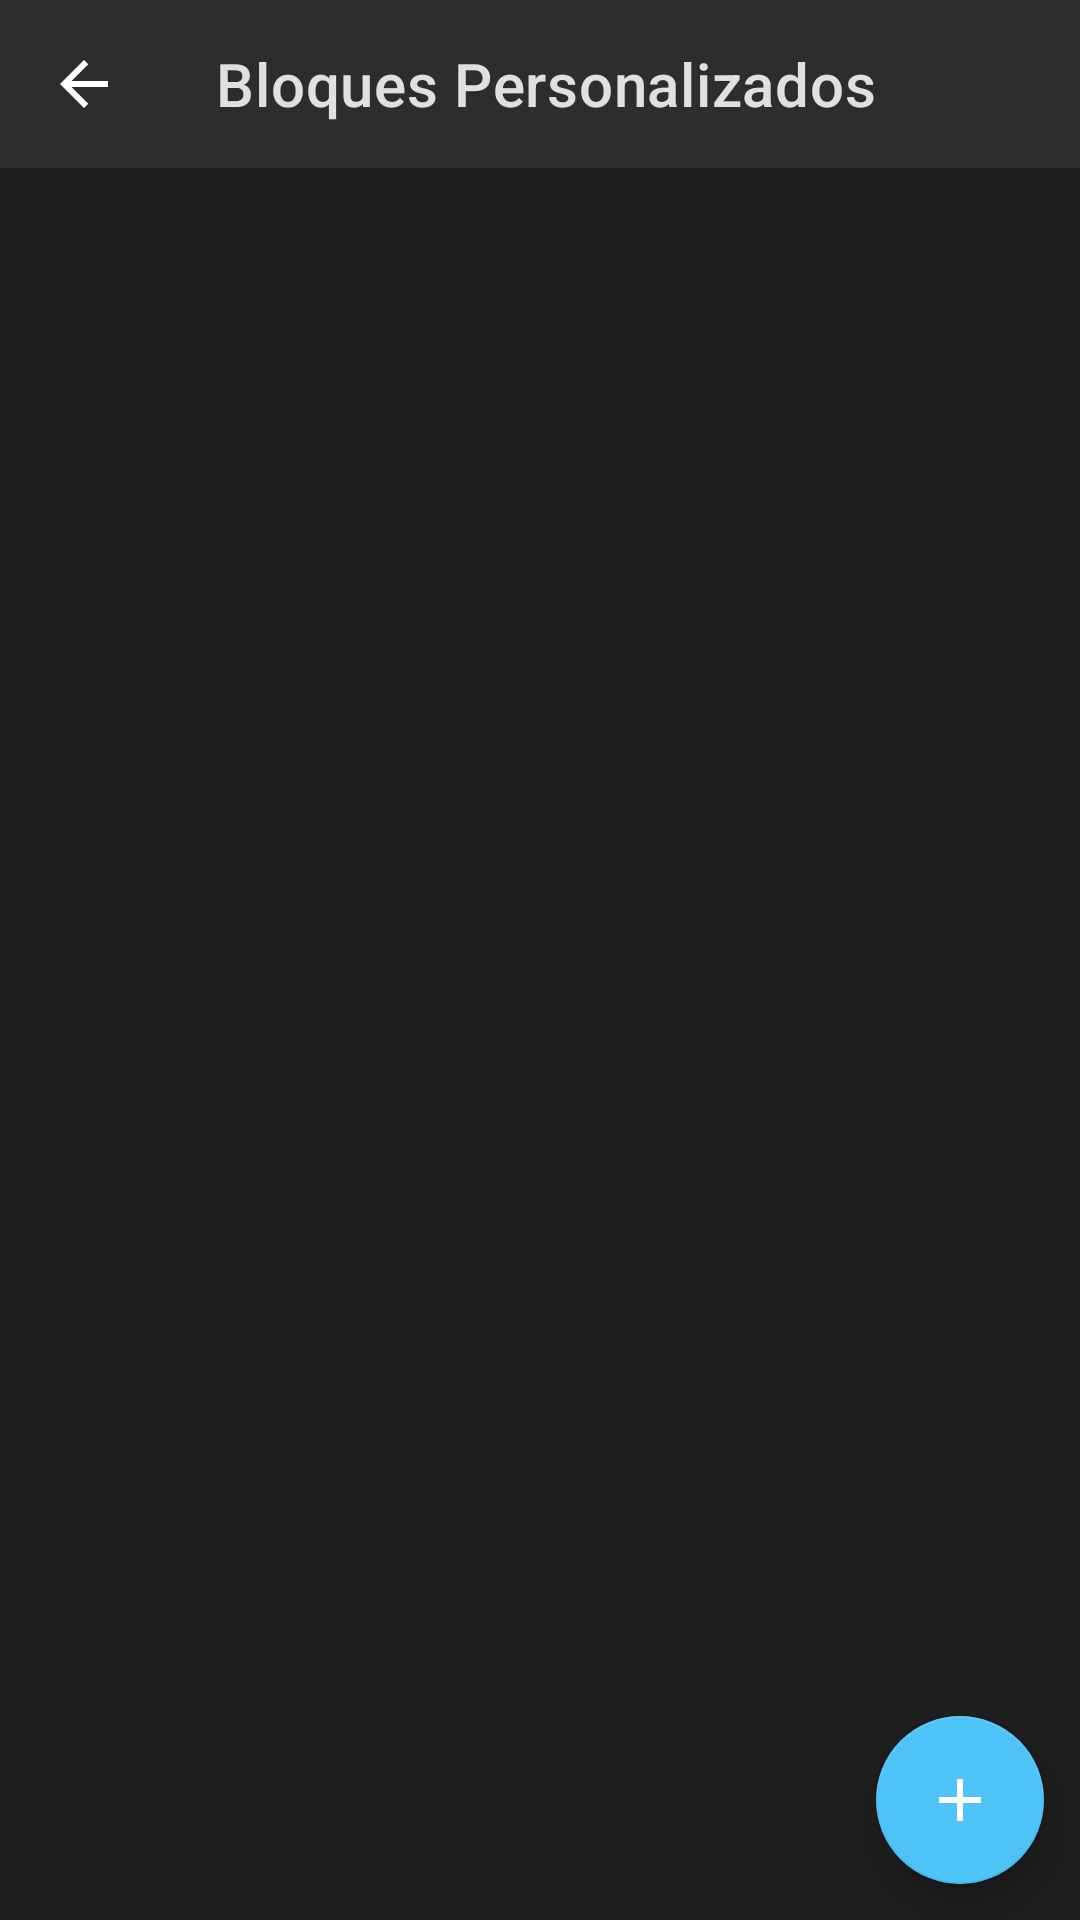

Screen size 1080px×1920px. Icon name, then its box in pixels as {"left": x1, "top": y1, "right": x2, "bottom": y2}:
Crear Bloque: {"left": 876, "top": 1716, "right": 1044, "bottom": 1884}
